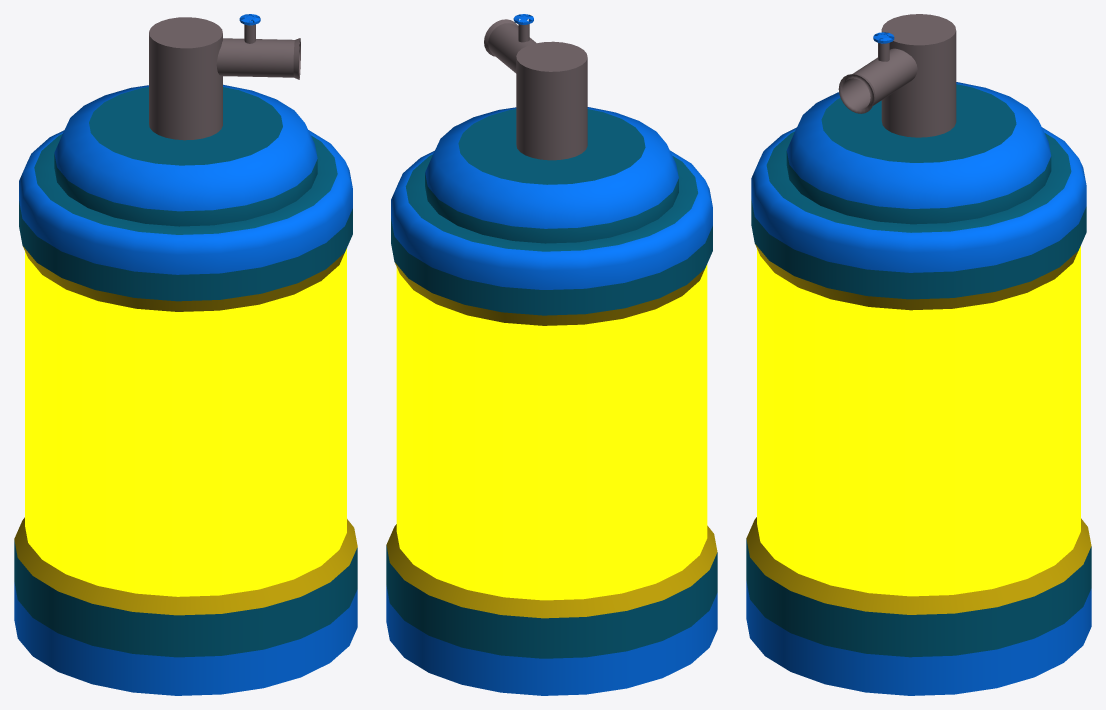
Rendered from Nitro.fbx.
3 views of the same model, side by side, from view 1: azimuth 30°, elevation 25°; view 2: azimuth 150°, elevation 25°; view 3: azimuth 270°, elevation 25° (orthographic). The views are drawn at different scales.
Parts seen in each view (by area): view 1: Cylinder.005, Cylinder.004; view 2: Cylinder.005, Cylinder.004; view 3: Cylinder.005, Cylinder.004.
Part boxes in pixels (bbox=[...]): Cylinder.005: bbox=[14, 17, 357, 695]; Cylinder.004: bbox=[216, 14, 300, 79]; Cylinder.005: bbox=[386, 41, 717, 695]; Cylinder.004: bbox=[484, 14, 536, 73]; Cylinder.005: bbox=[746, 14, 1091, 695]; Cylinder.004: bbox=[838, 32, 917, 113].
Bounding box in the file's own units: 200 × 390 × 200.
